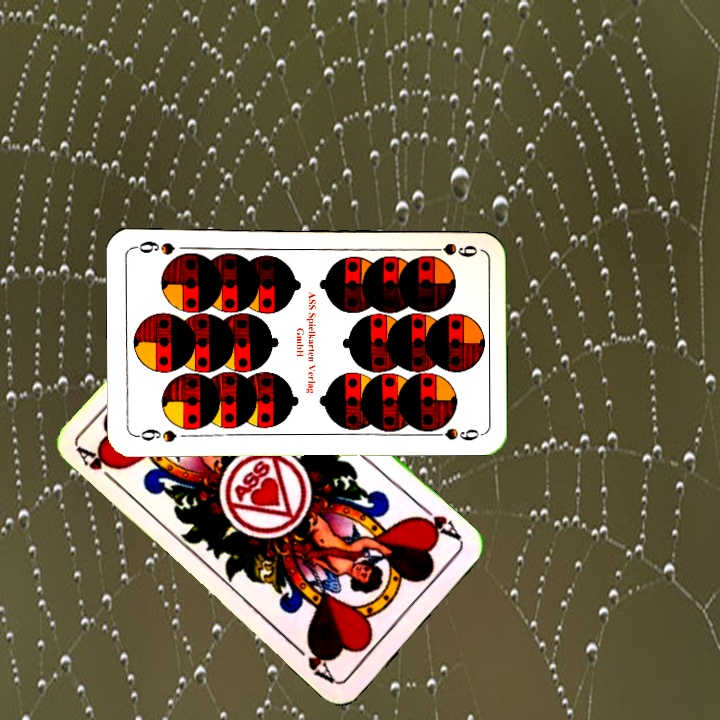HA: (411, 501, 465, 546), (74, 444, 123, 489)
S9: (421, 239, 480, 260), (132, 424, 179, 445)
